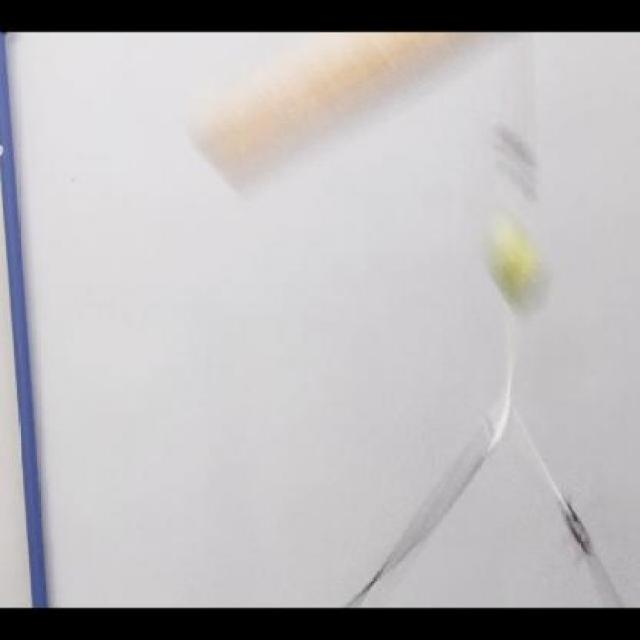baseball: (485, 239, 553, 293)
